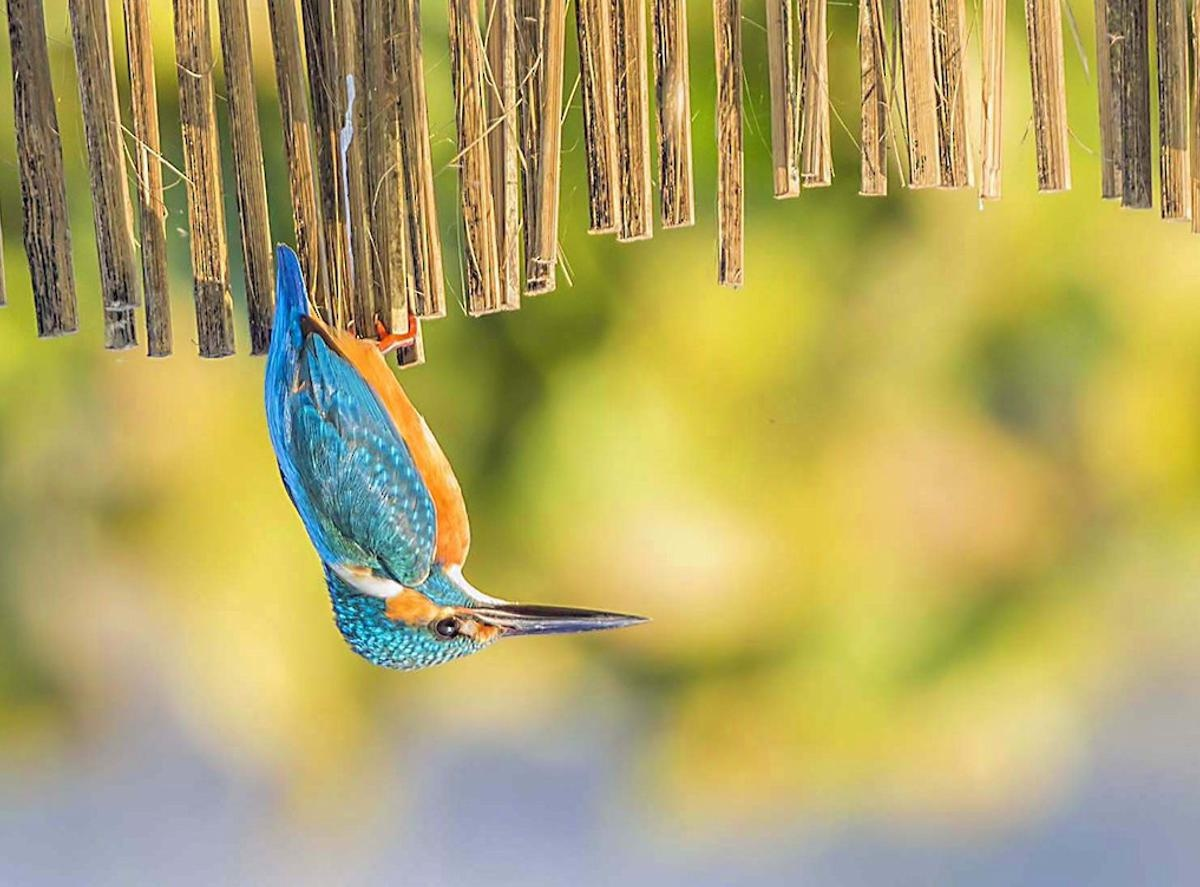kingfisher: (260, 244, 659, 695)
